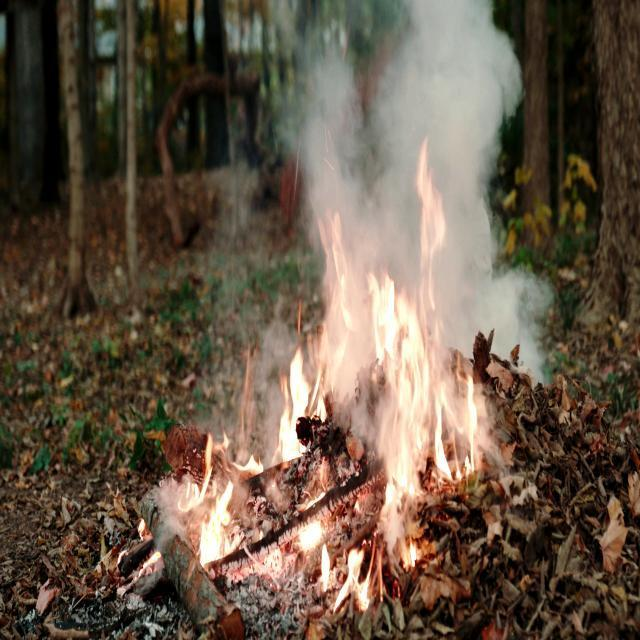Fire: (178, 272, 501, 584)
Smoke: (248, 0, 532, 301)
